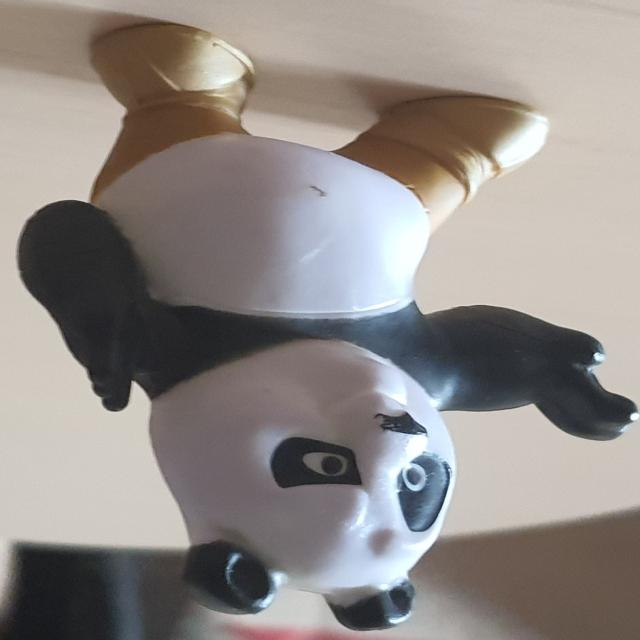Panda: (16, 23, 638, 632)
